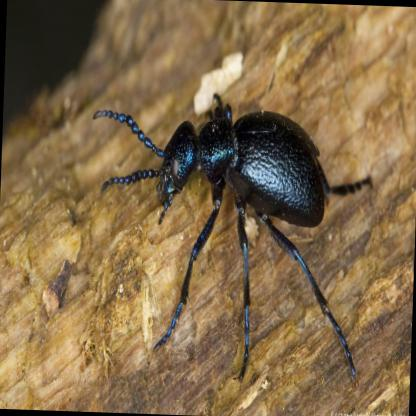blister beetle: (94, 110, 359, 382)
